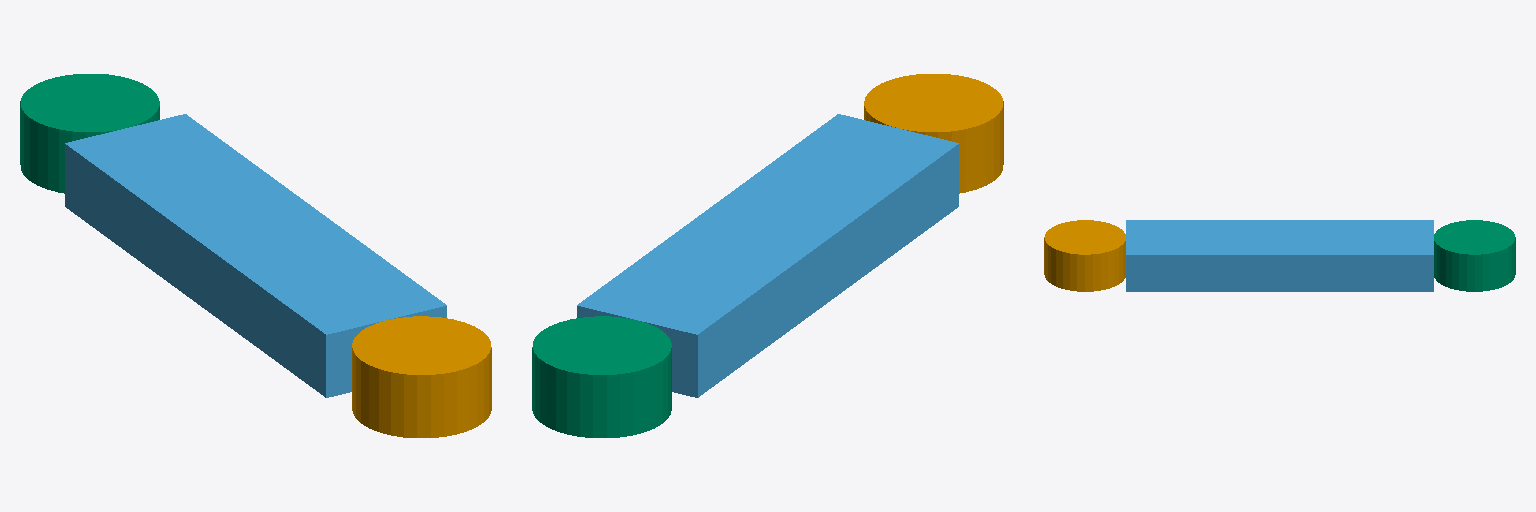
robot.urdf — 2dof_manip_1dof_inner:
<?xml version="1.0"?>
<robot name="2dof_manip_1dof_inner">
 <link name="jlink1">
  <inertial>
    <mass value="1"/>
    <inertia ixx="0.0133333333333" ixy="0" ixz="0" iyy="0.0133333333333" iyz="0" izz="0.01"/>
  </inertial>
  <visual>
    <origin rpy="0 0 1.57" xyz="0 0 0"/>
    <geometry>
      <cylinder length="0.2" radius="0.2"/>
    </geometry>
  </visual>
  <collision>
    <origin rpy="0 0 1.57" xyz="0 0 0"/>
    <geometry>
      <cylinder length="0.2" radius="0.2"/>
    </geometry>
  </collision>
 </link>

 <link name="link1">
  <inertial>
    <mass value="1"/>
    <inertia ixx="0.0166666666667" ixy="0" ixz="0" iyy="0.200833333333" iyz="0" izz="0.190833333333"/>
  </inertial>
  <visual>
    <origin rpy="0 0 0" xyz="0 0.95 0"/>
    <geometry>
      <box size="0.4 1.5 0.2"/>
    </geometry>
  </visual>
  <collision>
    <origin rpy="0 0 0" xyz="0 0.95 0"/>
    <geometry>
      <box size="0.4 1.5 0.2"/>
    </geometry>
  </collision>
 </link>

 <link name="jlink2">
  <inertial>
    <mass value="1"/>
    <inertia ixx="0.0133333333333" ixy="0" ixz="0" iyy="0.0133333333333" iyz="0" izz="0.01"/>
  </inertial>
  <visual>
    <origin rpy="0 0 1.57" xyz="0 1.9 0"/>
    <geometry>
      <cylinder length="0.2" radius="0.2"/>
    </geometry>
  </visual>
  <collision>
    <origin rpy="0 0 1.57" xyz="0 1.9 0"/>
    <geometry>
      <cylinder length="0.2" radius="0.2"/>
    </geometry>
  </collision>
 </link>

<joint name="joint_jlink1_link1_Z" type="revolute">
  <origin rpy="0 0 0" xyz="0 0 0"/>
  <parent link="jlink1"/>
  <child link="link1"/>
  <axis xyz="0 0 1"/>
  <dynamics damping="0.01" friction="0.5"/>
  <limit lower="-3.14" upper="3.14" effort="0.01" velocity="100"/>
</joint>

<joint name="joint_link1_jlink2" type="fixed">
  <origin rpy="0 0 0" xyz="0 0 0"/>
  <parent link="link1"/>
  <child link="jlink2"/>
</joint>

  <klampt package_root="../../.." default_acc_max="4" >
  </klampt>
</robot>

--- What the picture shows (computed from the rendered views, not written in the file) ---
3 views of the same robot in one strip: view 1: azimuth 30°, elevation 25°; view 2: azimuth 150°, elevation 25°; view 3: azimuth 270°, elevation 25° (orthographic).
Robot: 2dof_manip_1dof_inner — 3 links, 2 joints (1 revolute, 1 fixed); root link jlink1; default pose: every joint at zero.
Visible links, largest first — view 1: link1, jlink1, jlink2; view 2: link1, jlink2, jlink1; view 3: link1, jlink1, jlink2.
Boxes of the visible links, bbox=[...] form: link1: bbox=[65, 114, 446, 397]; jlink1: bbox=[352, 316, 491, 437]; jlink2: bbox=[20, 74, 159, 193]; link1: bbox=[577, 114, 958, 397]; jlink2: bbox=[532, 316, 671, 437]; jlink1: bbox=[864, 74, 1003, 193]; link1: bbox=[1126, 220, 1433, 291]; jlink1: bbox=[1044, 220, 1125, 291]; jlink2: bbox=[1434, 220, 1515, 291].
Bounding box of the posed robot: 0.4 × 2.3 × 0.2 m (x, y, z).
Geometry: primitives only (box / cylinder / sphere), no mesh files.